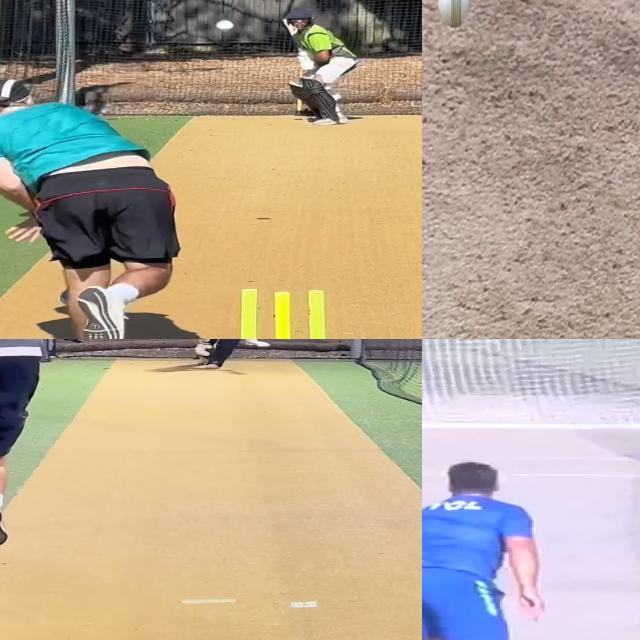Cricket ball: (436, 0, 469, 31), (213, 18, 236, 33)
